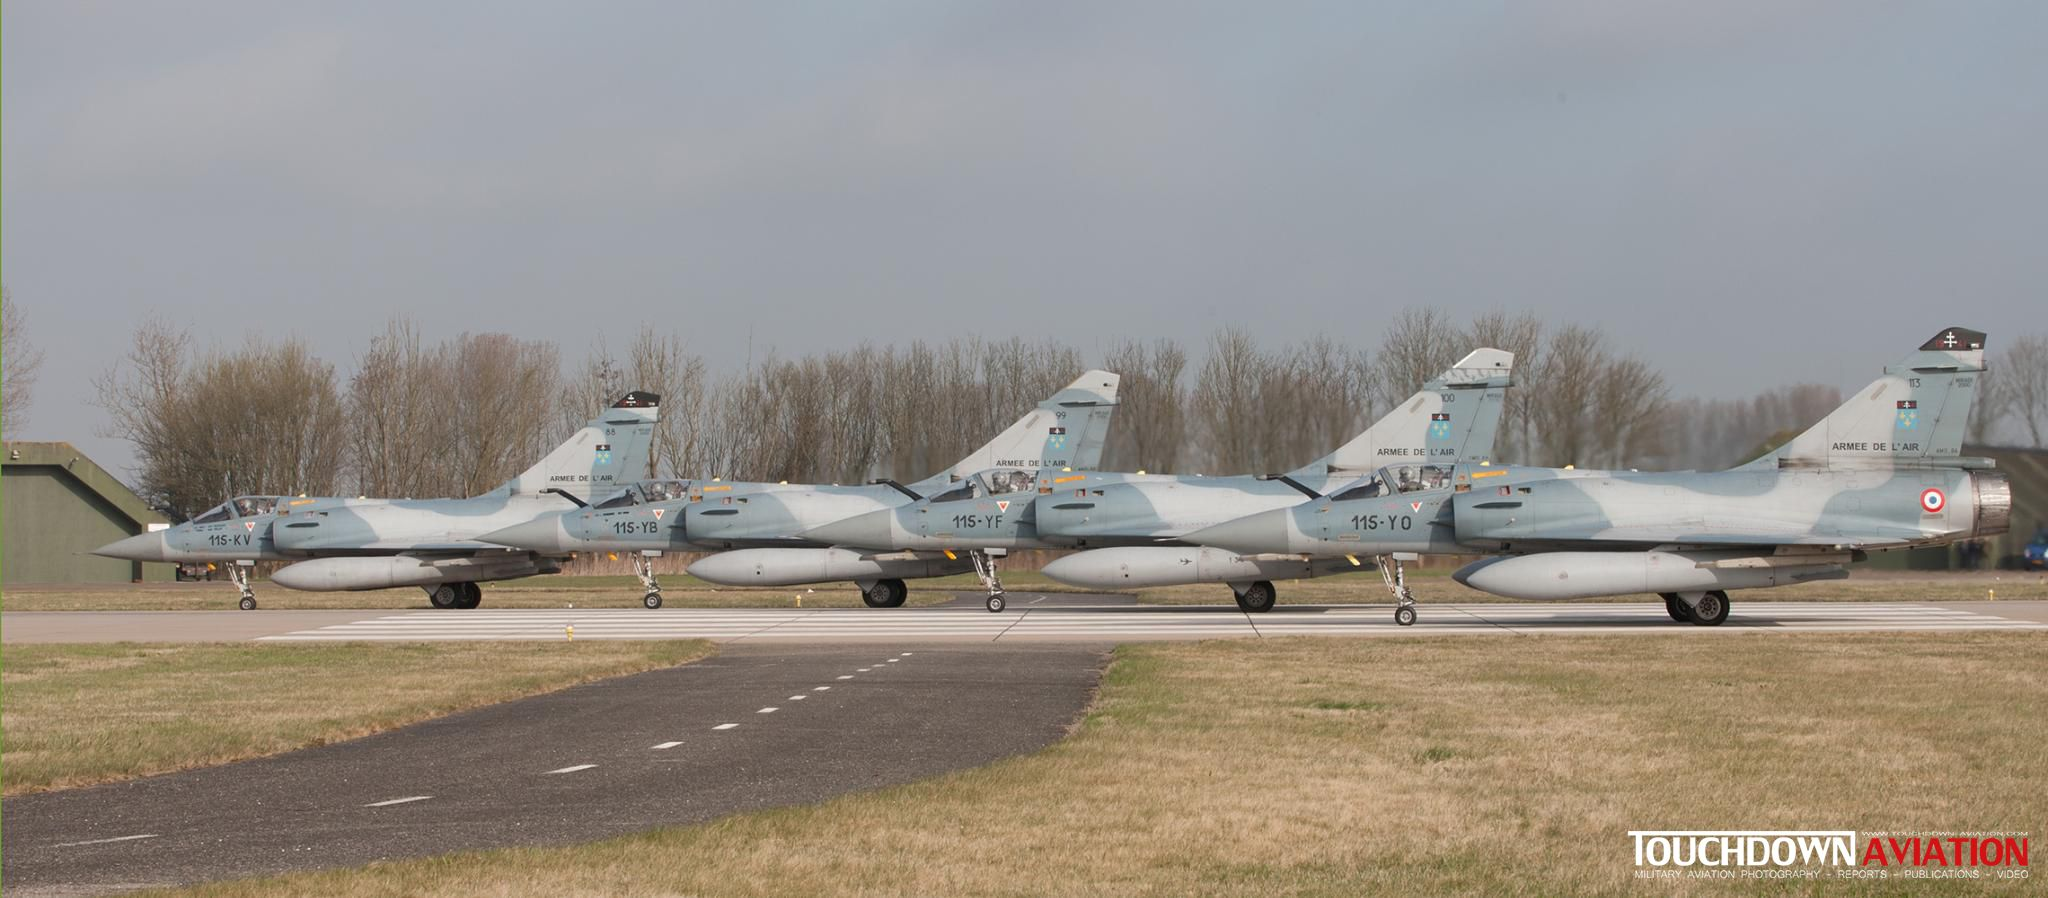Mirage2000: (1152, 325, 2011, 627), (773, 347, 1515, 613), (455, 367, 1122, 610), (71, 392, 662, 610)
